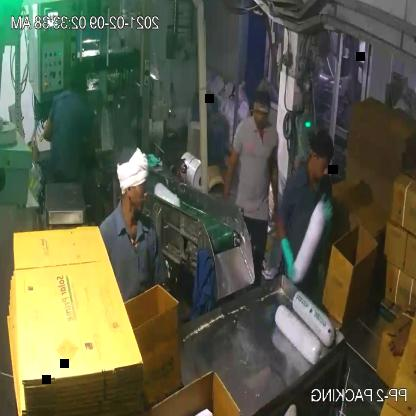glove: (277, 232, 303, 293), (314, 184, 338, 243)
no_glove: (266, 142, 293, 226), (216, 134, 246, 208), (385, 310, 413, 373)
